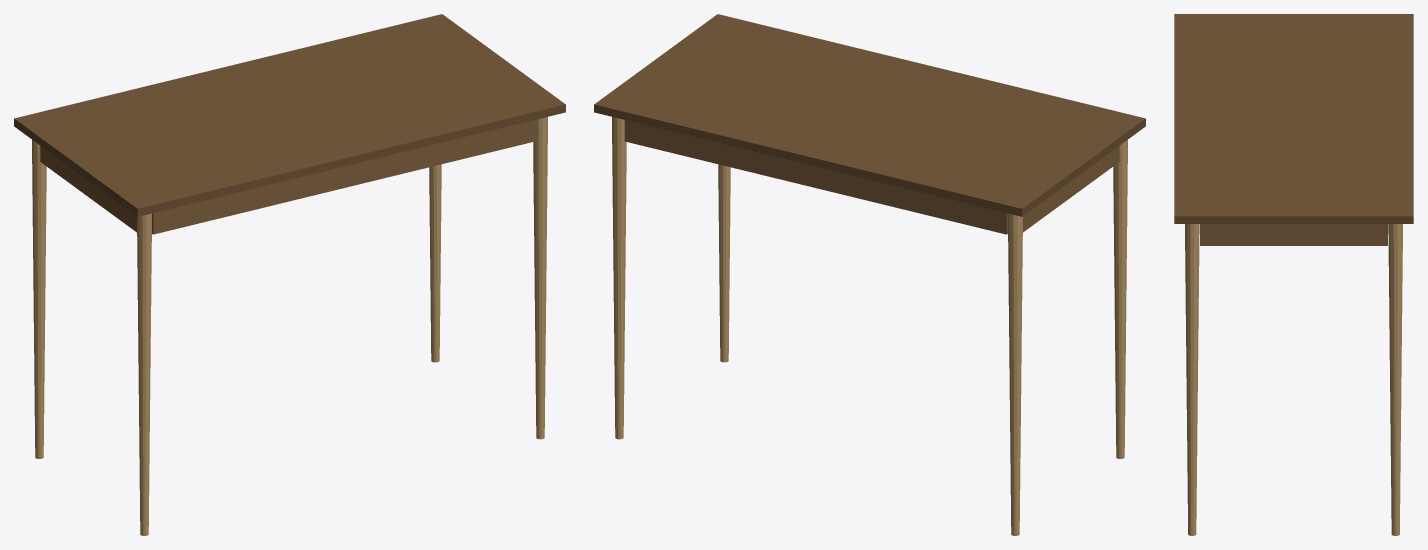
Rendered from ATL-SDK-std.glb.
3 renders of one model, left to right at view 1: azimuth 30°, elevation 25°; view 2: azimuth 150°, elevation 25°; view 3: azimuth 270°, elevation 25°, orthographic. The views are drawn at different scales.
Parts seen in each view (by area): view 1: top:pbr, apron-f:pbr, leg-fl:pbr, leg-fr:pbr, leg-bl:pbr, leg-br:pbr, apron-l:pbr; view 2: top:pbr, apron-b:pbr, leg-bl:pbr, leg-br:pbr, leg-fl:pbr, leg-fr:pbr, apron-l:pbr; view 3: top:pbr, apron-r:pbr, leg-fr:pbr, leg-br:pbr.
Part boxes in pixels (x1,y1,x2,y2): top:pbr: (14,14,565,216); apron-f:pbr: (152,120,535,234); leg-fl:pbr: (137,213,151,535); leg-fr:pbr: (533,117,547,439); leg-bl:pbr: (32,140,46,458); leg-br:pbr: (429,164,441,362); apron-l:pbr: (40,146,136,232); top:pbr: (594,14,1145,216); apron-b:pbr: (624,120,1007,234); leg-bl:pbr: (1008,213,1022,535); leg-br:pbr: (612,117,626,439); leg-fl:pbr: (1113,140,1127,458); leg-fr:pbr: (718,164,730,362); apron-l:pbr: (1023,146,1119,232); top:pbr: (1174,14,1413,223); apron-r:pbr: (1200,224,1387,245); leg-fr:pbr: (1185,224,1199,535); leg-br:pbr: (1388,224,1402,535).
Bounding box in the file's own units: 1.4 × 1.05 × 0.7.
